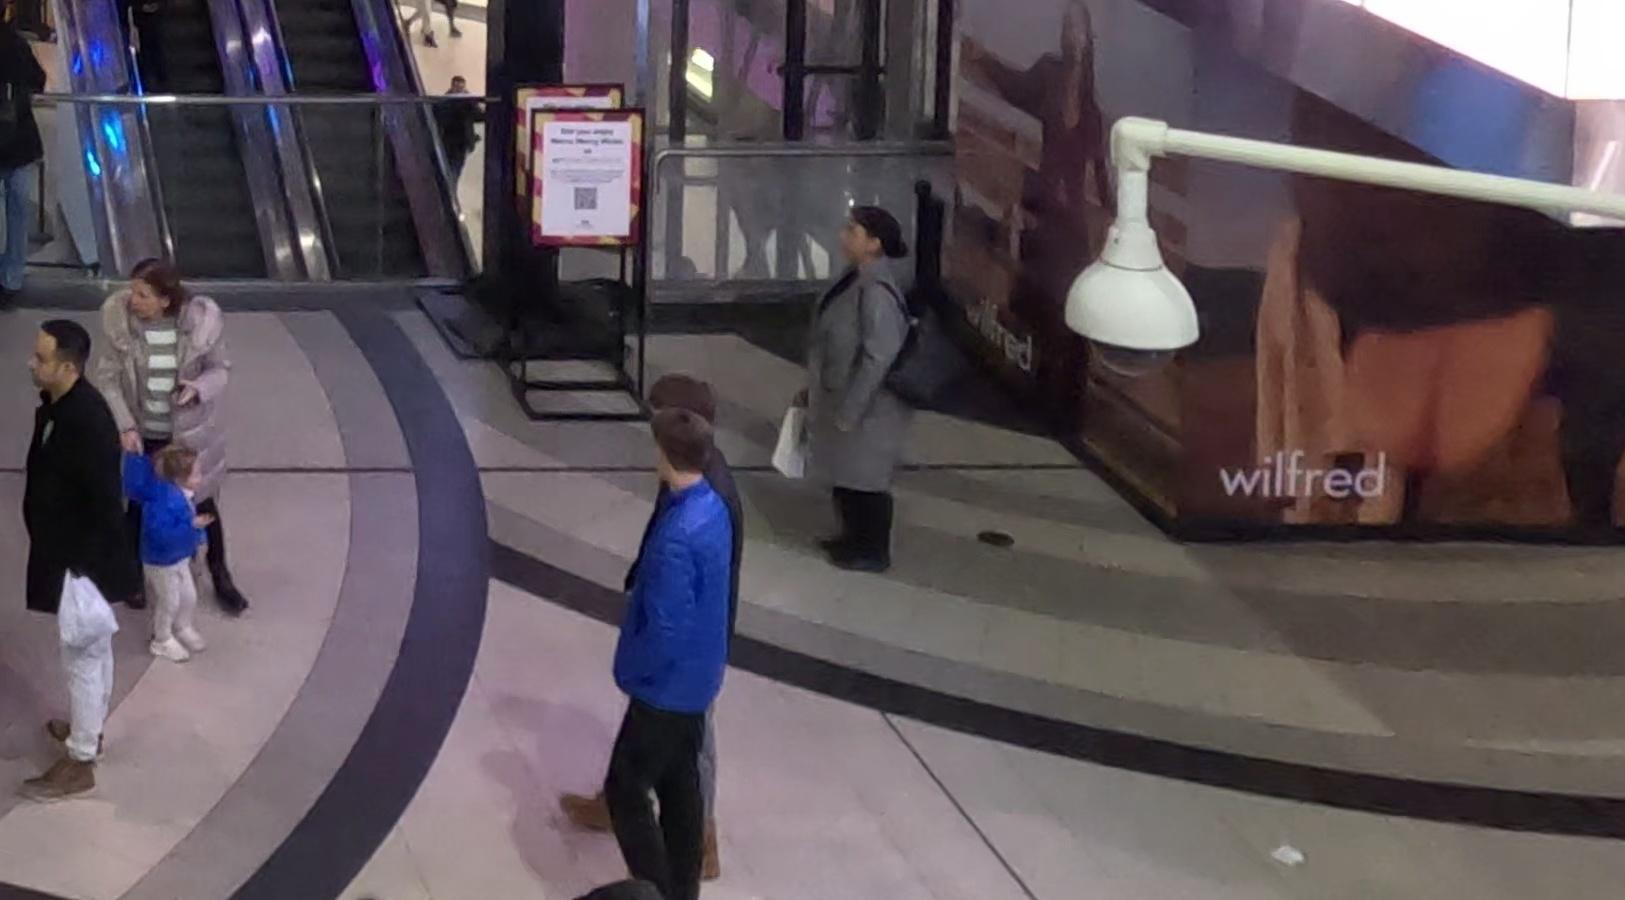person: (591, 386, 757, 900), (12, 316, 149, 803), (791, 205, 919, 585), (126, 436, 222, 671)
